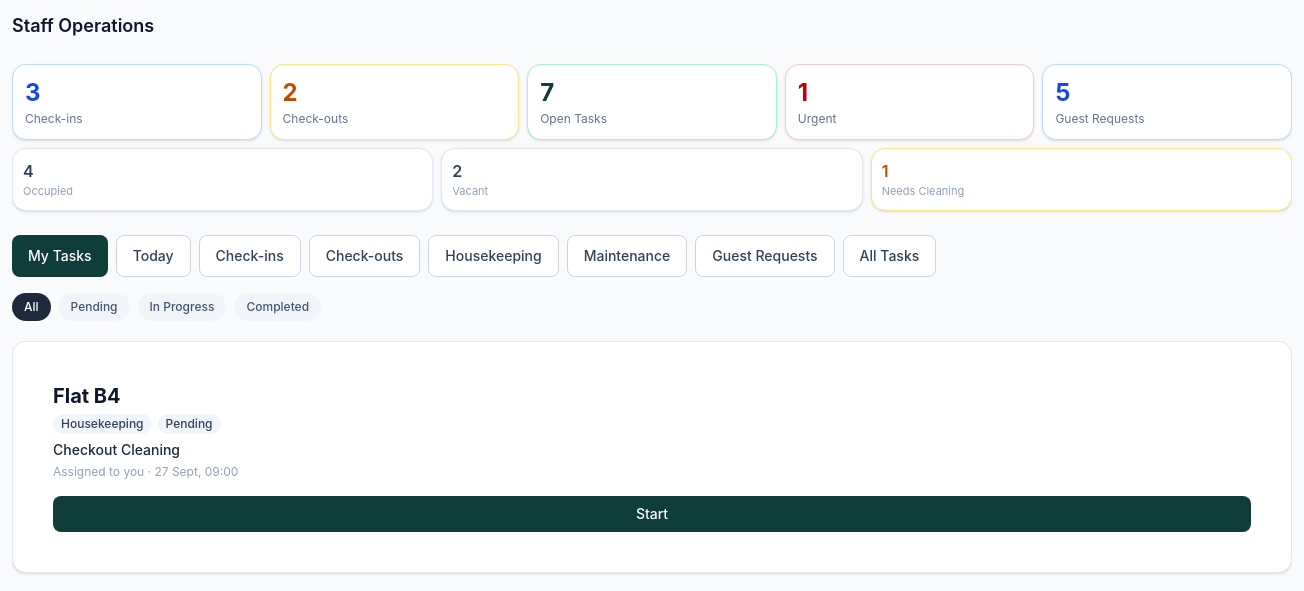
Test: StaffOperationsPage — UI polish › shows a guest's identity status on the Check-ins tab without blocking the Check In action
Step 1. Click the tab "Check-ins" → click(250, 256), box [199, 234, 301, 276]
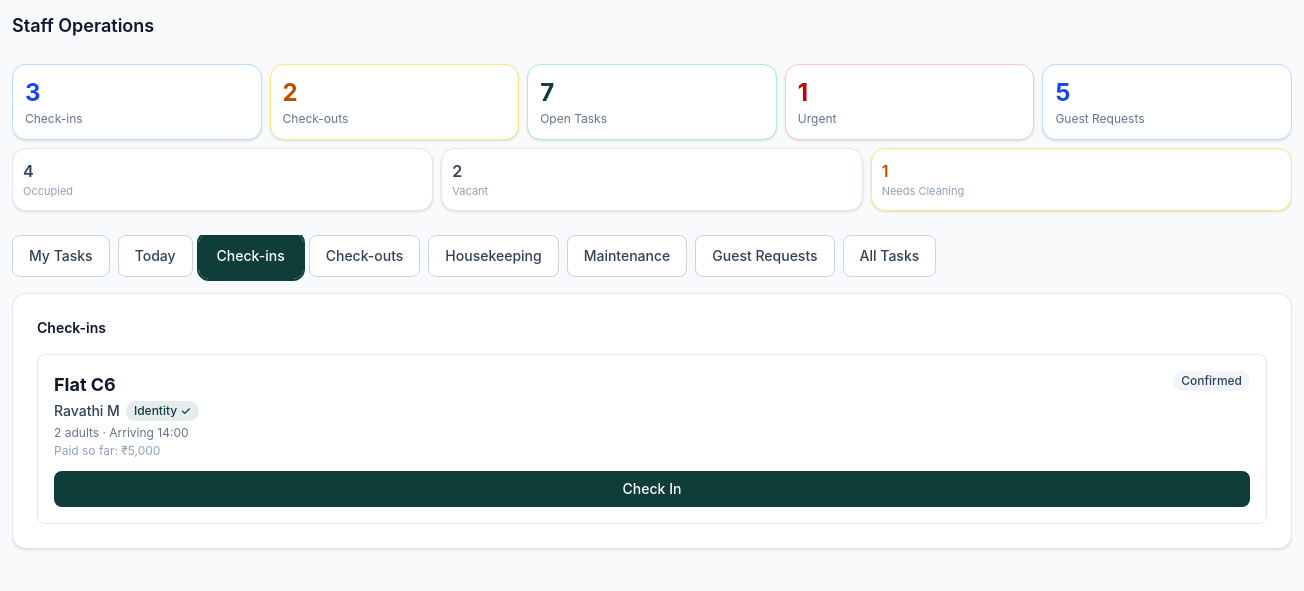
Expected: the button "Check In" is enabled, [54, 470, 1250, 506]
Expected: the text "Ravathi M" is shown, [54, 400, 120, 420]
Expected: the text "Identity ✓" is shown, [126, 400, 199, 420]
